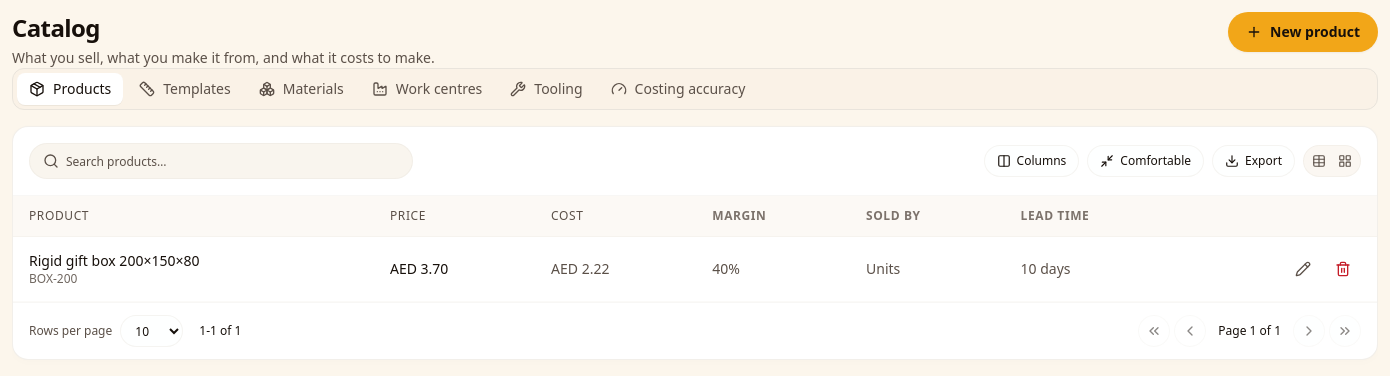
it: CatalogView › switches to materials and shows the sheet size the nesting engine needs
Click the button "Materials". click: (301, 89)
box: [247,73,356,105]
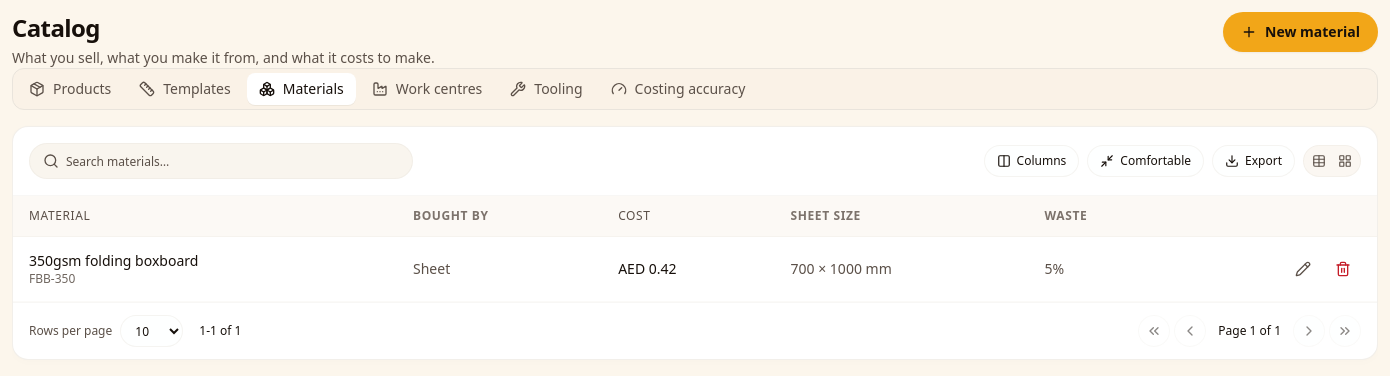
Now the text "350gsm folding boxboard" is shown, box [29,251,198,270]
Now the text "700 × 1000 mm" is shown, box [790,259,892,278]
Now the text "5%" is shown, box [1045,259,1064,278]
